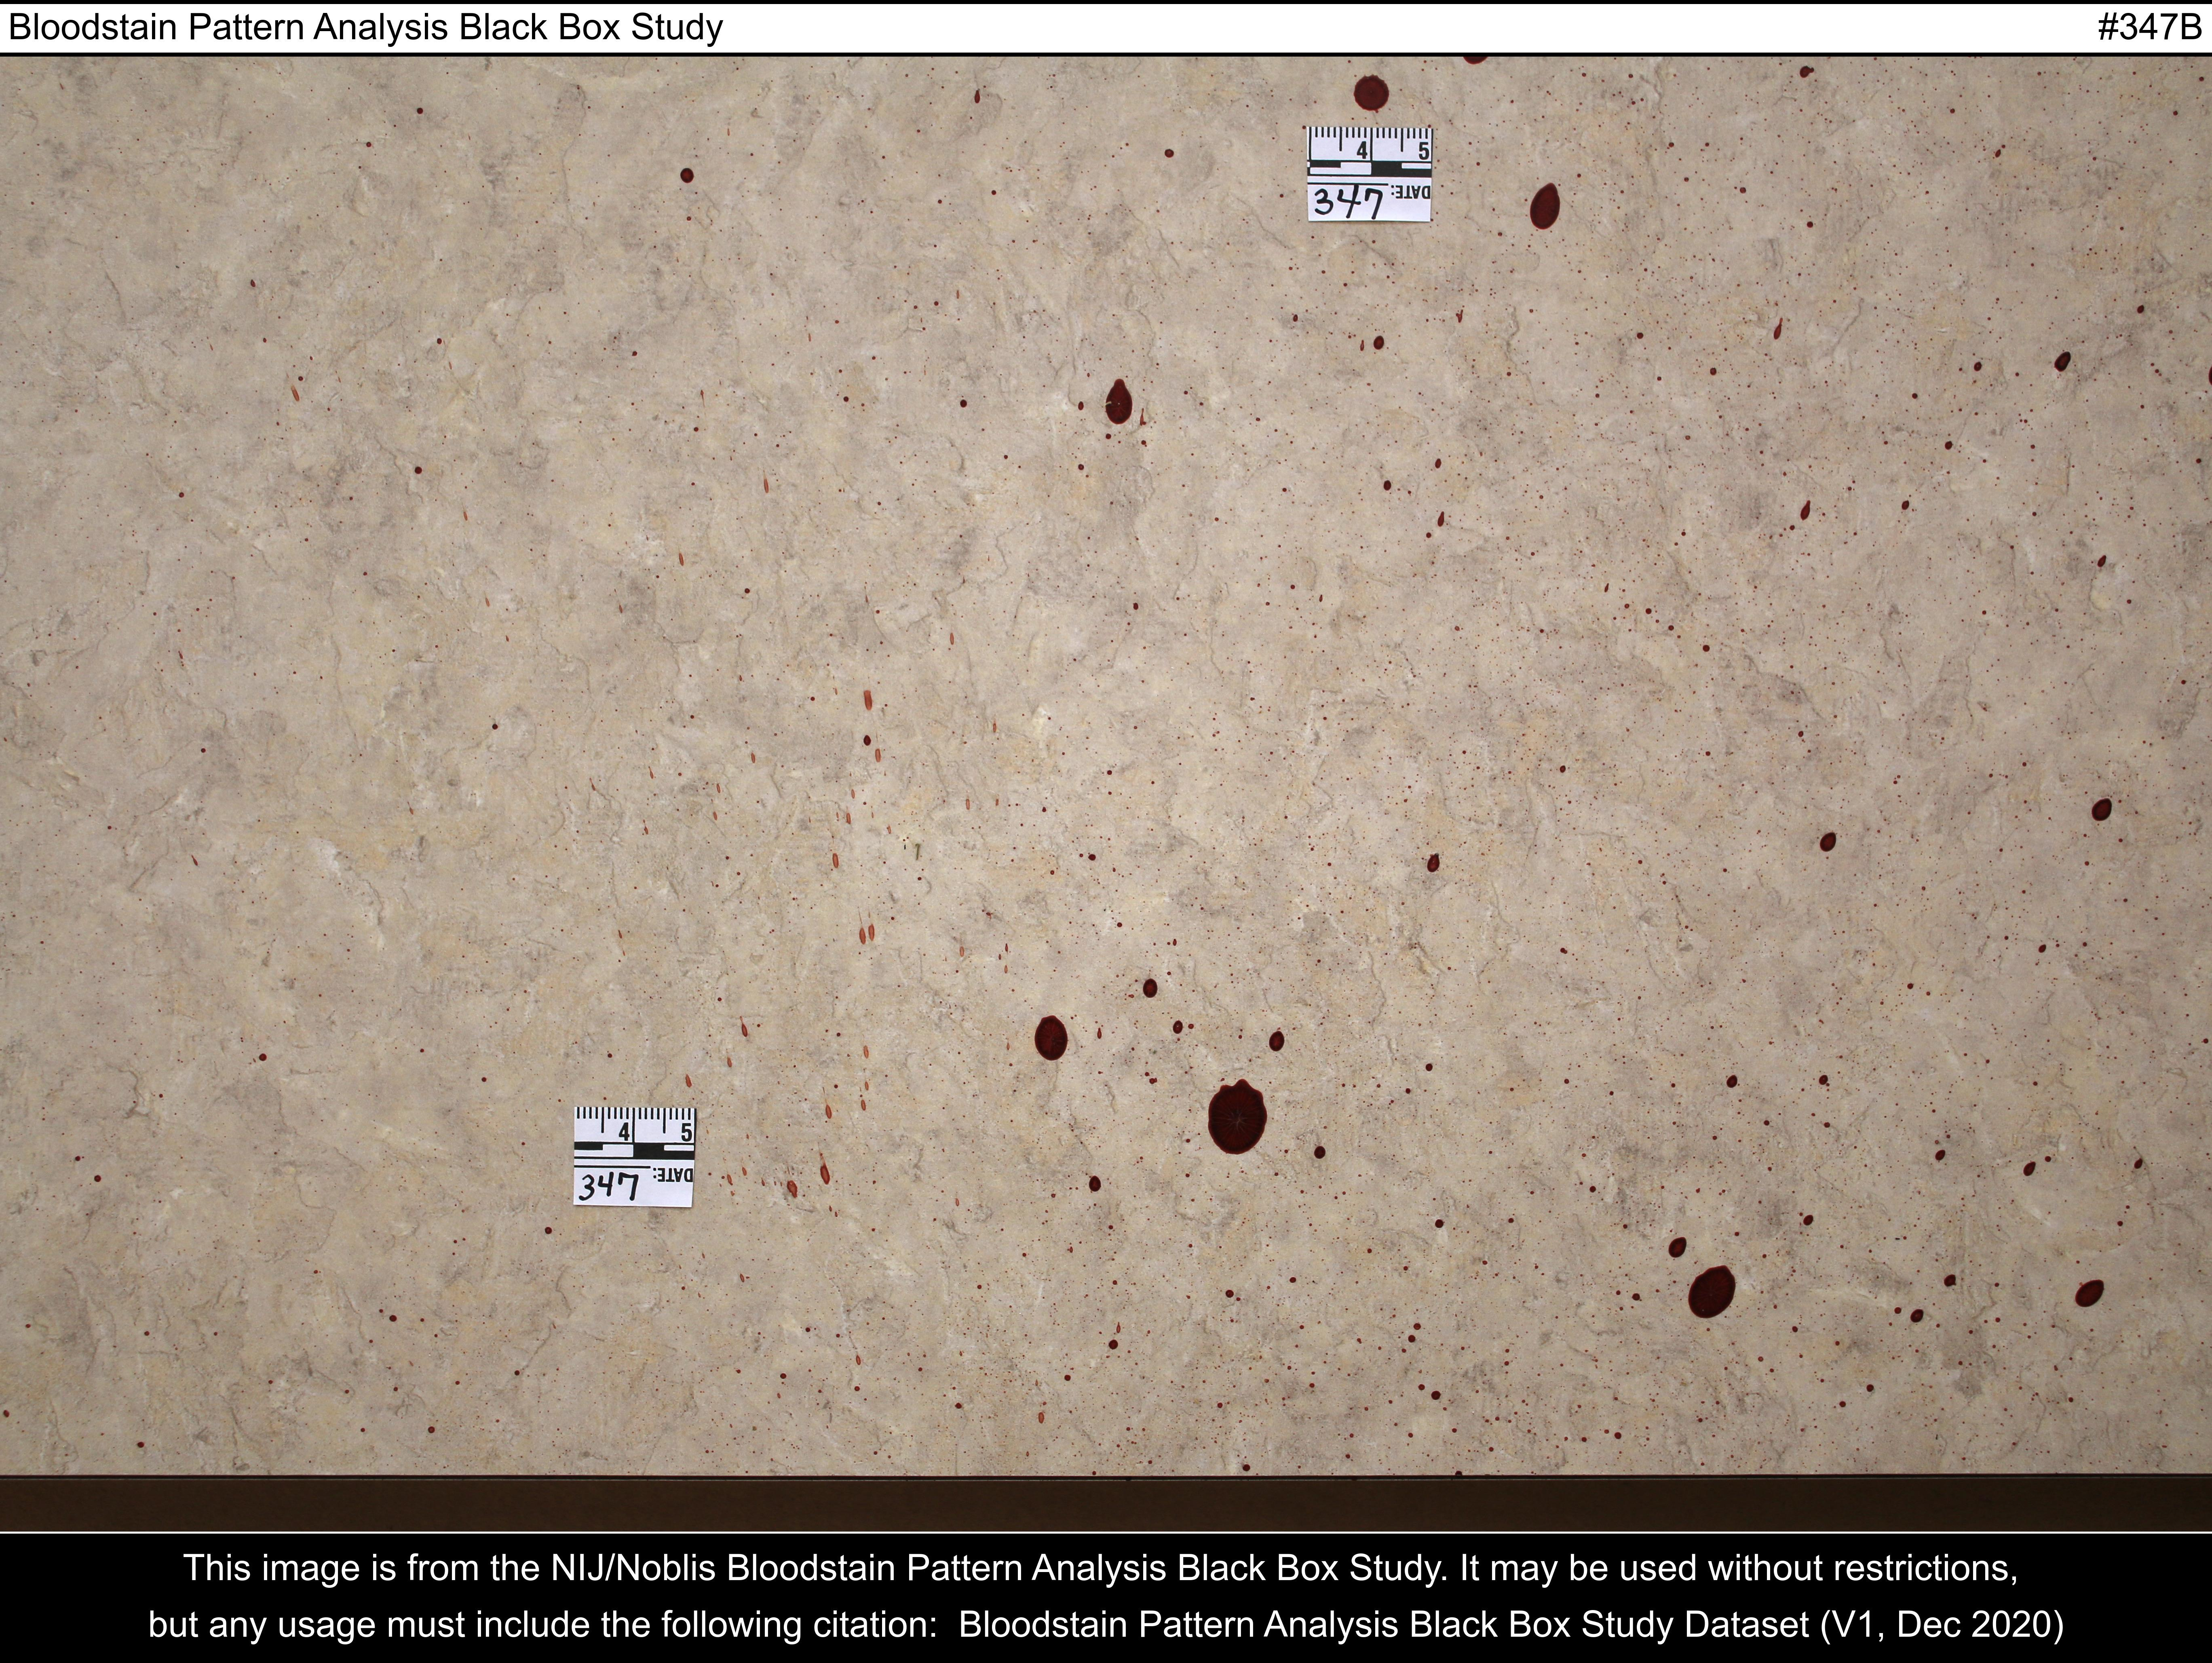Impact: (897, 852, 2123, 1368), (1072, 63, 1657, 452)
